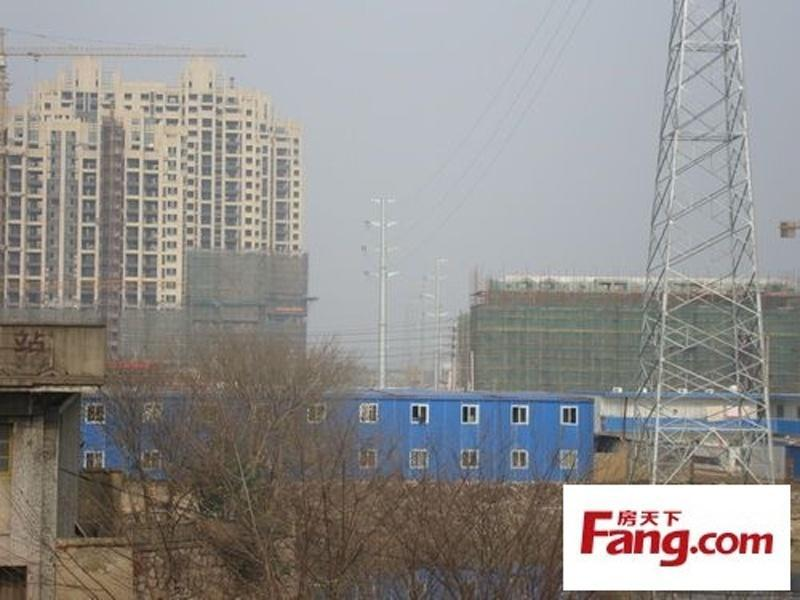power_tower: (632, 0, 780, 484), (358, 189, 408, 388), (417, 250, 455, 390)
